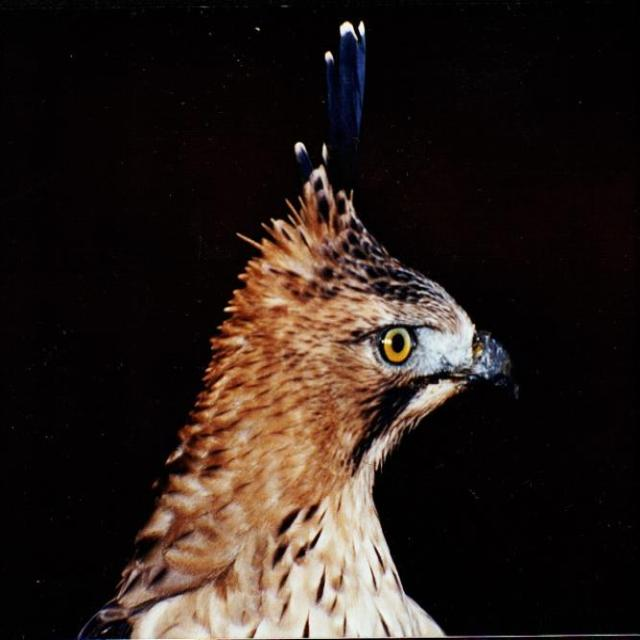Elang Jawa: (73, 0, 535, 640)
